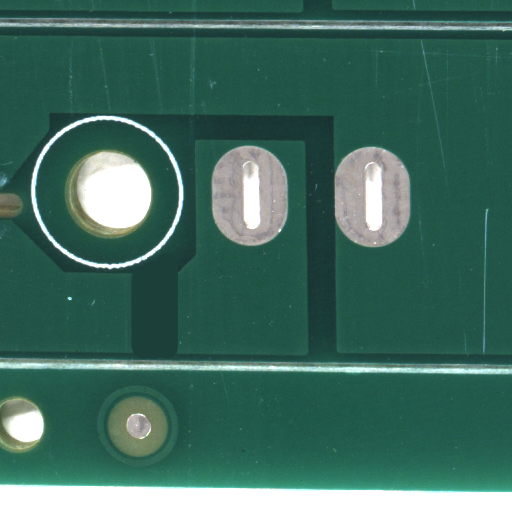Open_circuit: (155, 312, 209, 399)
